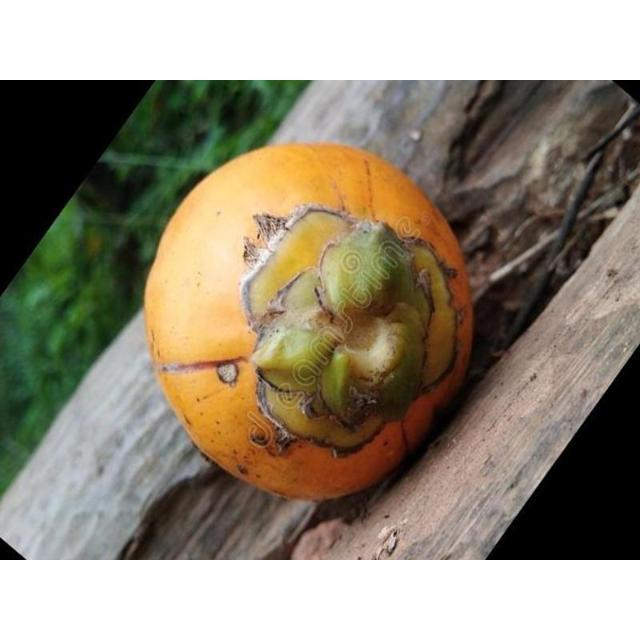good: (142, 142, 475, 506)
